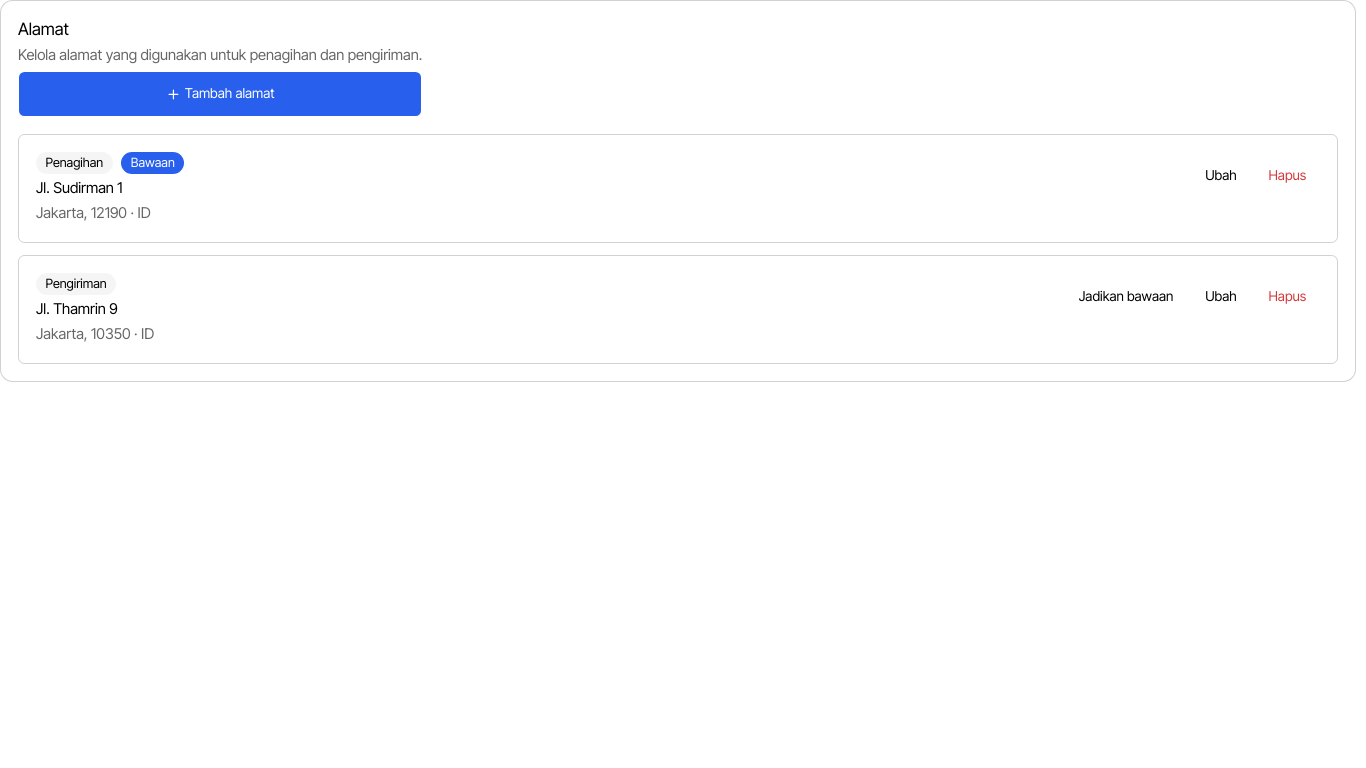
ContactAddresses › opens the create dialog from the add button
This screenshot has width=1366, height=768.
Expected: the text "Jl. Sudirman 1" is shown, [36,179,123,197]
Click the button "Tambah alamat": (220, 94) [18,71,422,118]
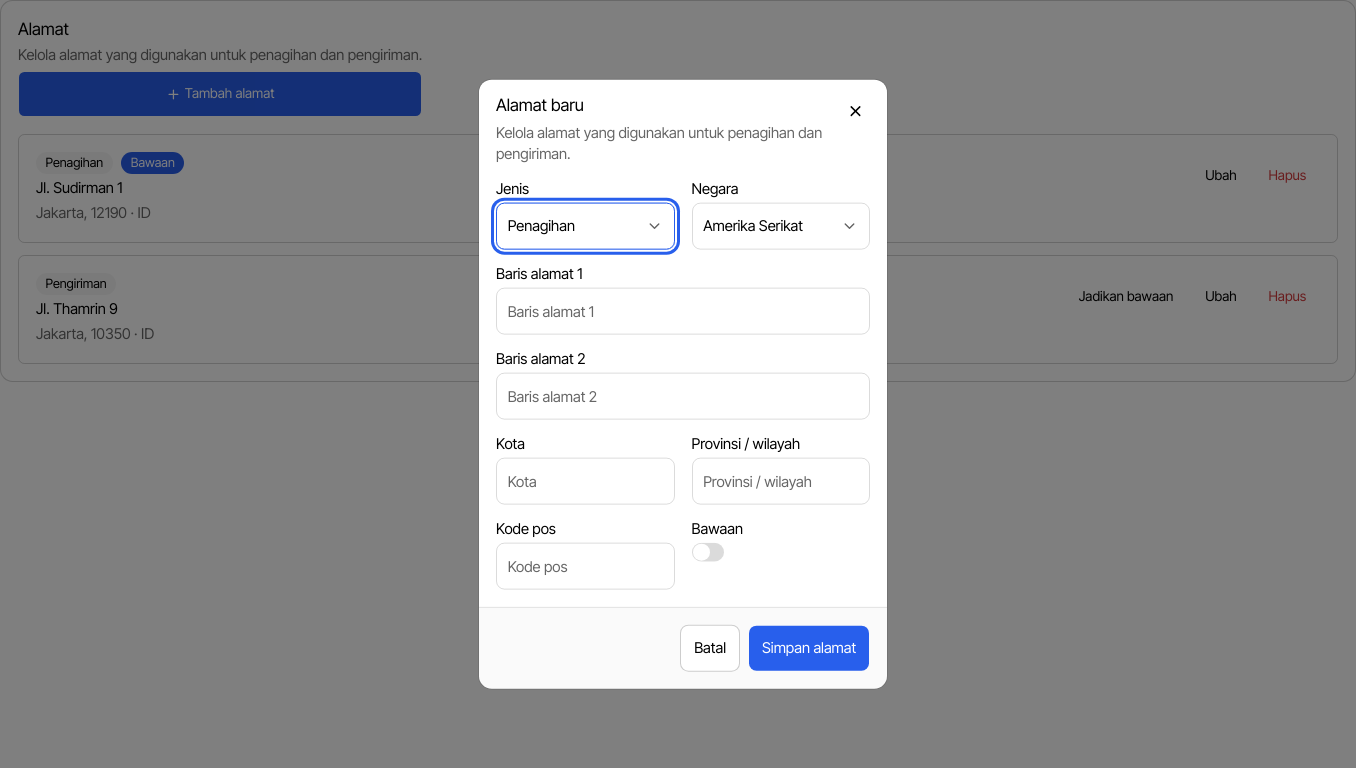
Now the heading "Alamat baru" is shown, box [496,95,584,115]
